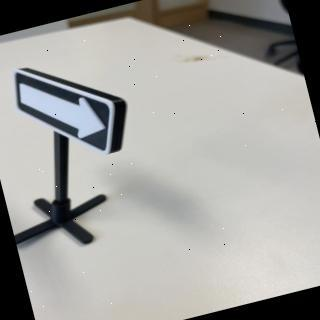sign_oneway_right: (8, 45, 139, 174)
